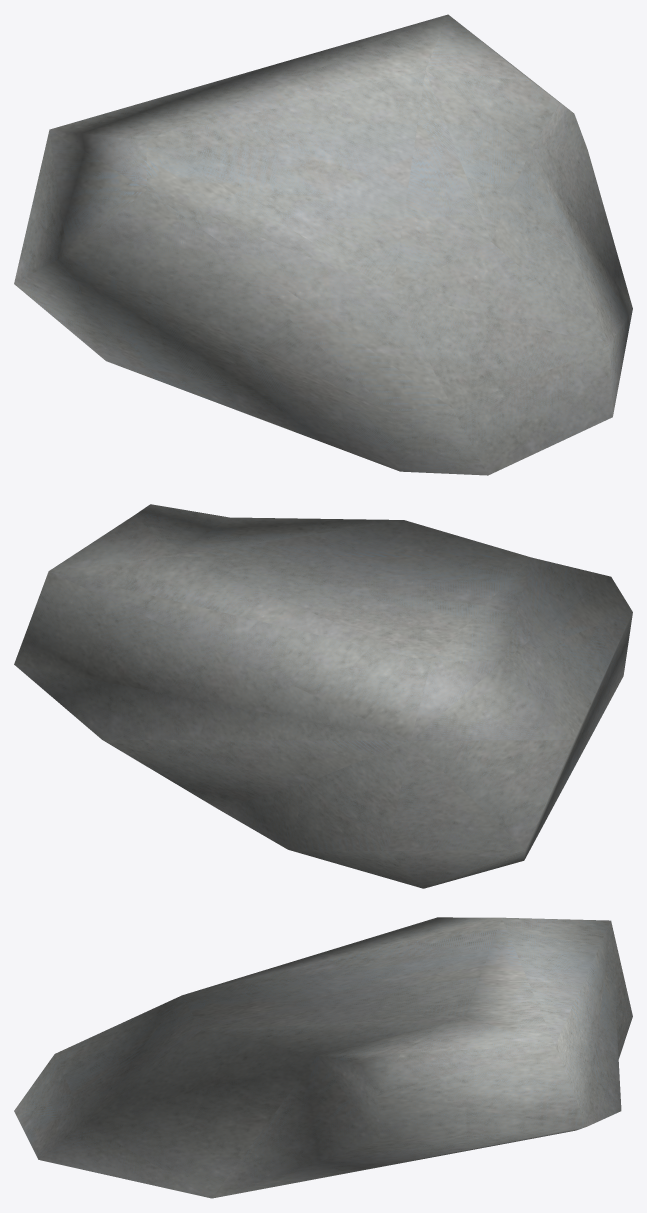
The model's file is rock03.fbx.
3 views of the same model, one above another, from view 1: azimuth 30°, elevation 25°; view 2: azimuth 150°, elevation 25°; view 3: azimuth 270°, elevation 25° (orthographic). The views are drawn at different scales.
Parts seen in each view (by area): view 1: Boulder1; view 2: Boulder1; view 3: Boulder1.
Part boxes in pixels (x1=…): Boulder1: x1=14, y1=14, x2=632, y2=475; Boulder1: x1=14, y1=504, x2=632, y2=888; Boulder1: x1=14, y1=917, x2=632, y2=1198.
Bounding box in the file's own units: 850 × 355 × 995.
